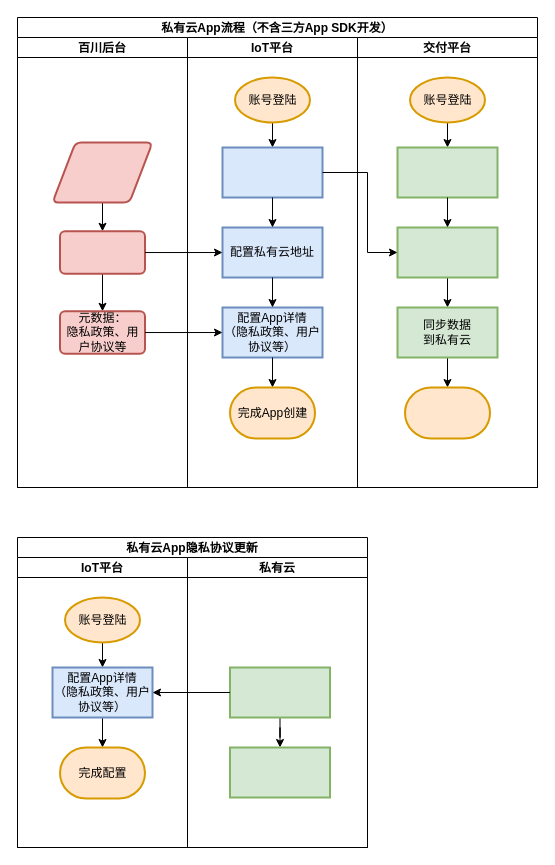
Some shapes in this 555 by 865 pixel diagram are drawn without their labels. The shapes that lost their labels are listed below. From the top down, each one's centre as x and y in pixels, then its label:
[102,172]: 私有云App 配置模板
[272,172]: 创建私有云App
[447,172]: 选择私有云
[102,252]: 元数据： 私有云地址
[447,252]: 选择AppId
[447,412]: 完成交付
[279,692]: 监听App隐私协议更新
[279,772]: 同步隐私协议
